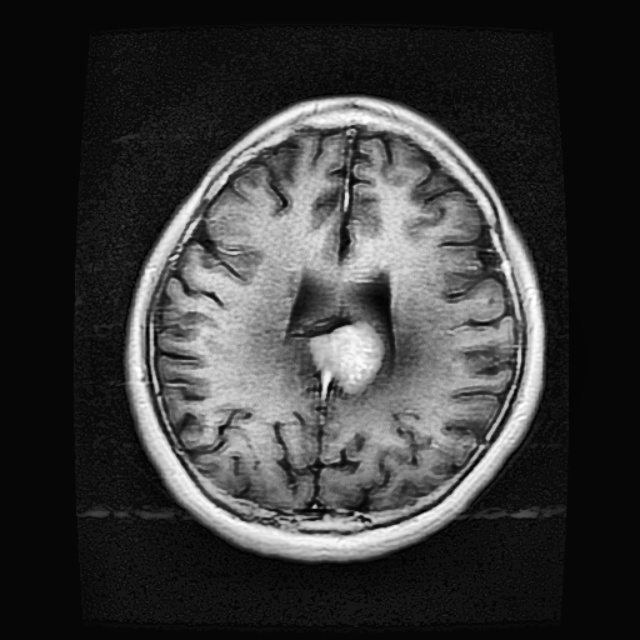Pituitary: (312, 322, 382, 394)
